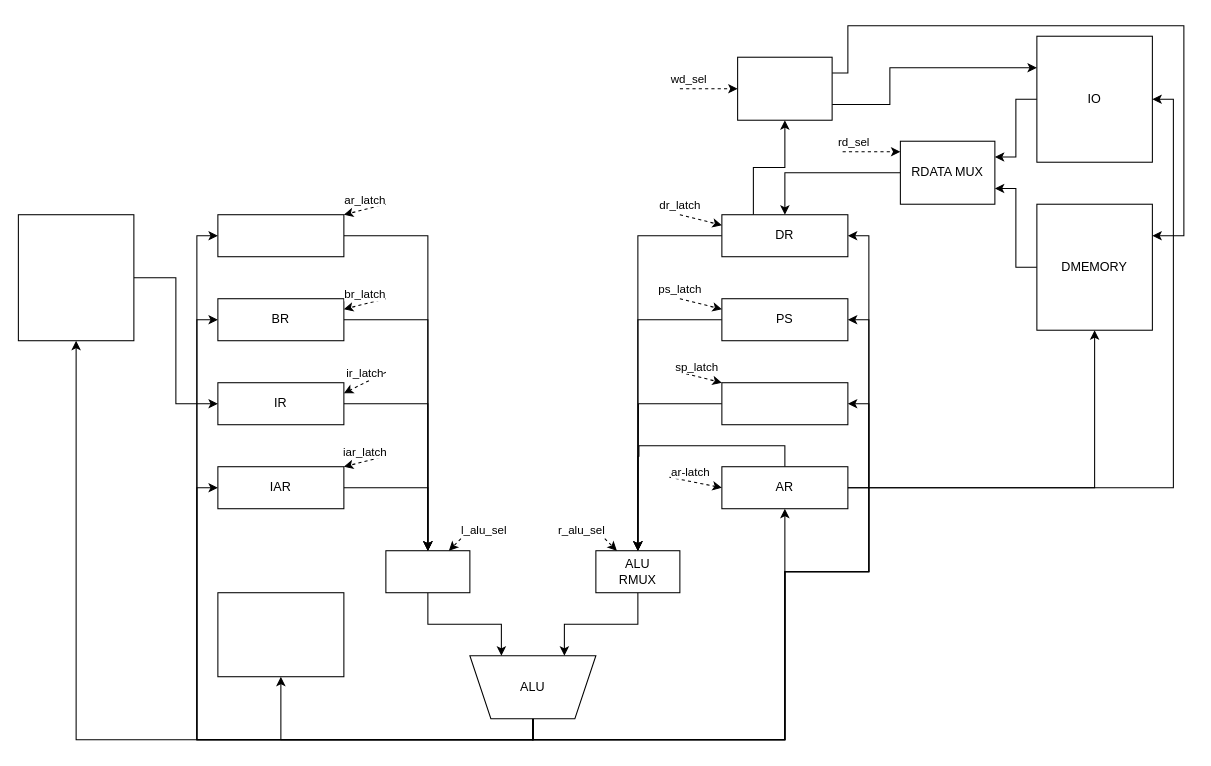
Image size: 1211x766. Some labels were removed from this diagram. The centre of each missing label's shape, as x and y in pixels:
AC: point (280, 235)
ALU LMUX: point (427, 571)
Control Unit: point (280, 634)
IMEMORY: point (75, 277)
SP: point (784, 403)
WDATA MUX: point (784, 88)
